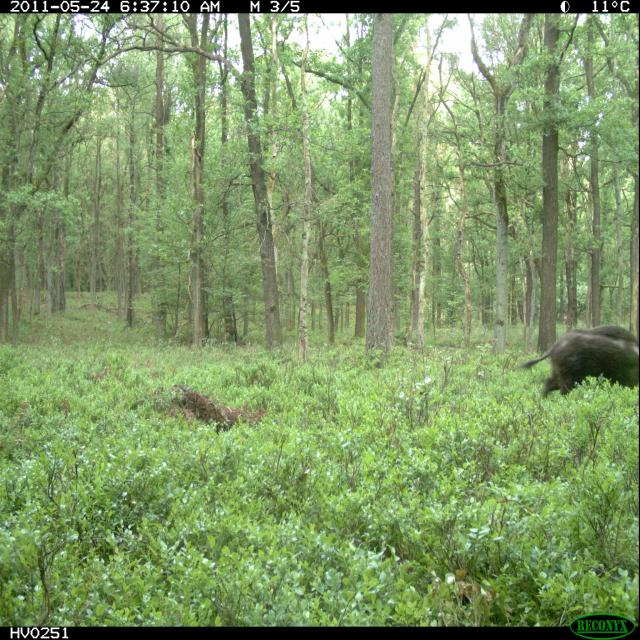boar: (528, 299, 640, 421)
